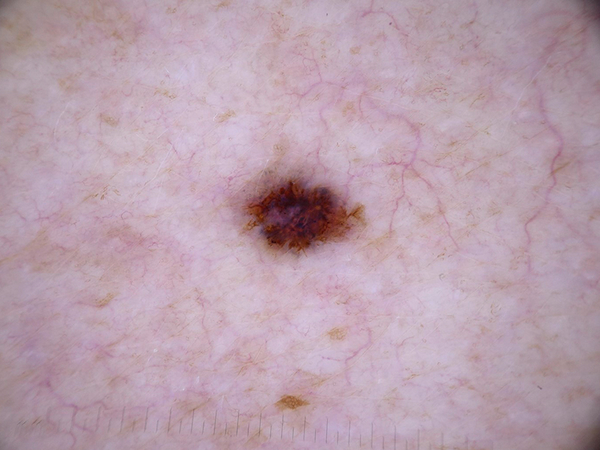Detected Lesion: (235, 168, 374, 266)
